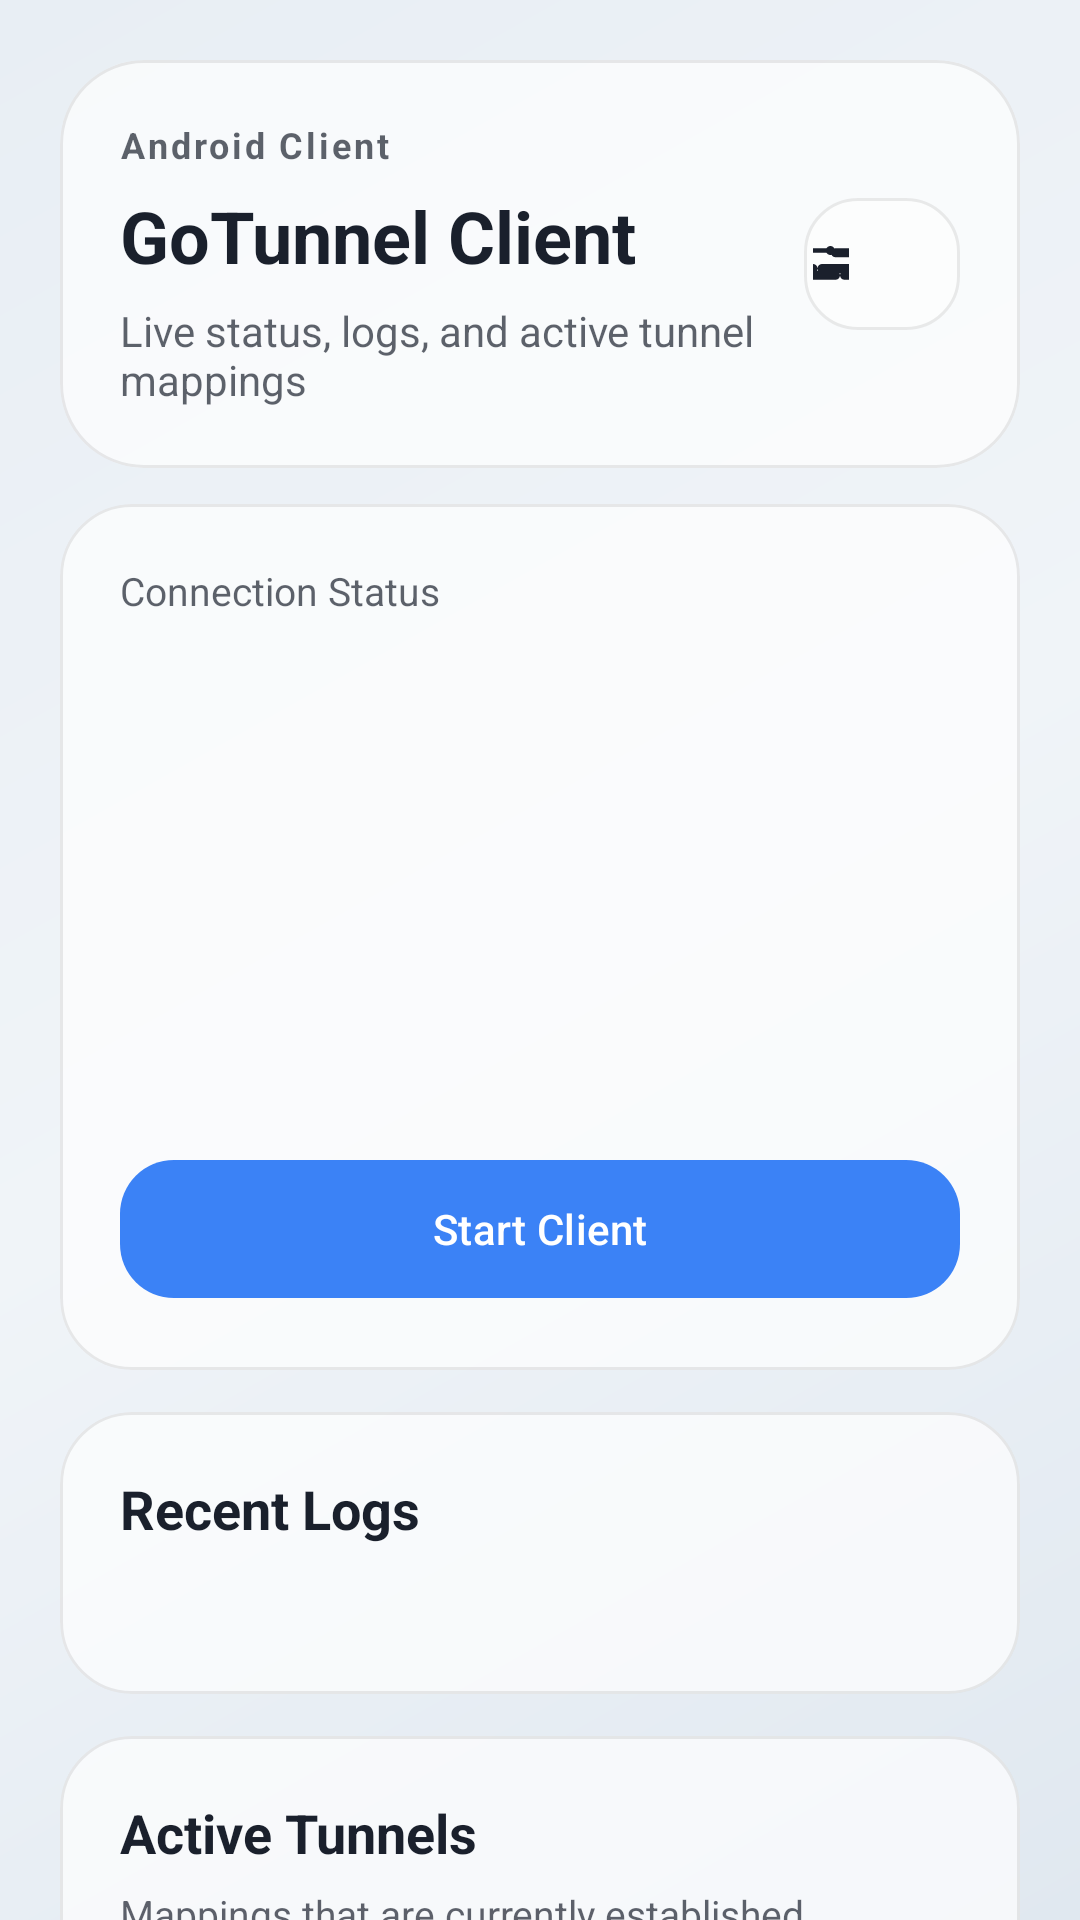

Where to tap for icons on this 1080w x 1920h app screen, as (x=x, y=y):
Settings: (x=831, y=263)
